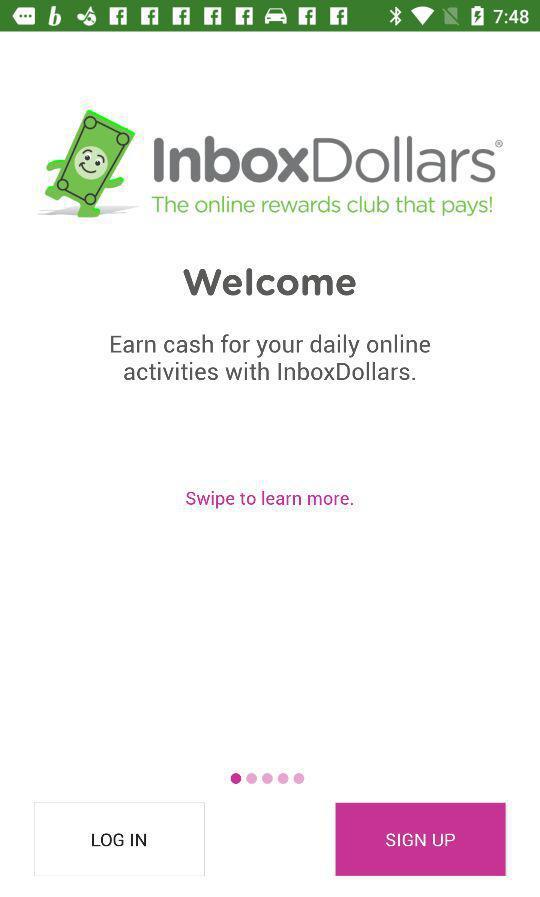Image: (34, 107, 504, 219)
PageIndicator: (231, 772, 306, 785)
Text: (111, 333, 432, 383), (183, 267, 357, 298), (185, 490, 355, 510)
TextButton: (35, 802, 206, 878), (335, 802, 506, 876)
UpperTaskBar: (1, 1, 540, 33)
